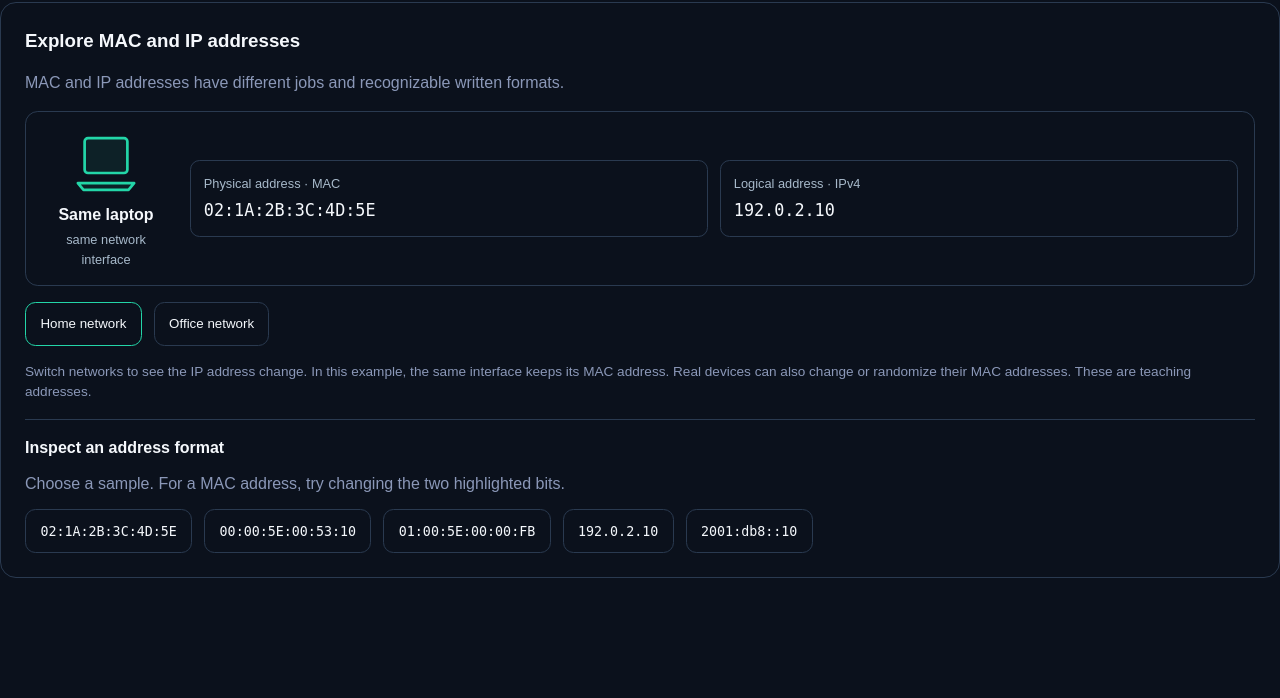
Test: AddressFormatInspector › restores each MAC sample instead of keeping edited bits from the previous sample
What coordinates should you click on to do the following:
click the button "00:00:5E:00:53:10"
I would click on:
 (288, 531)
Its box is [204,509,371,553].
(page scrolled)
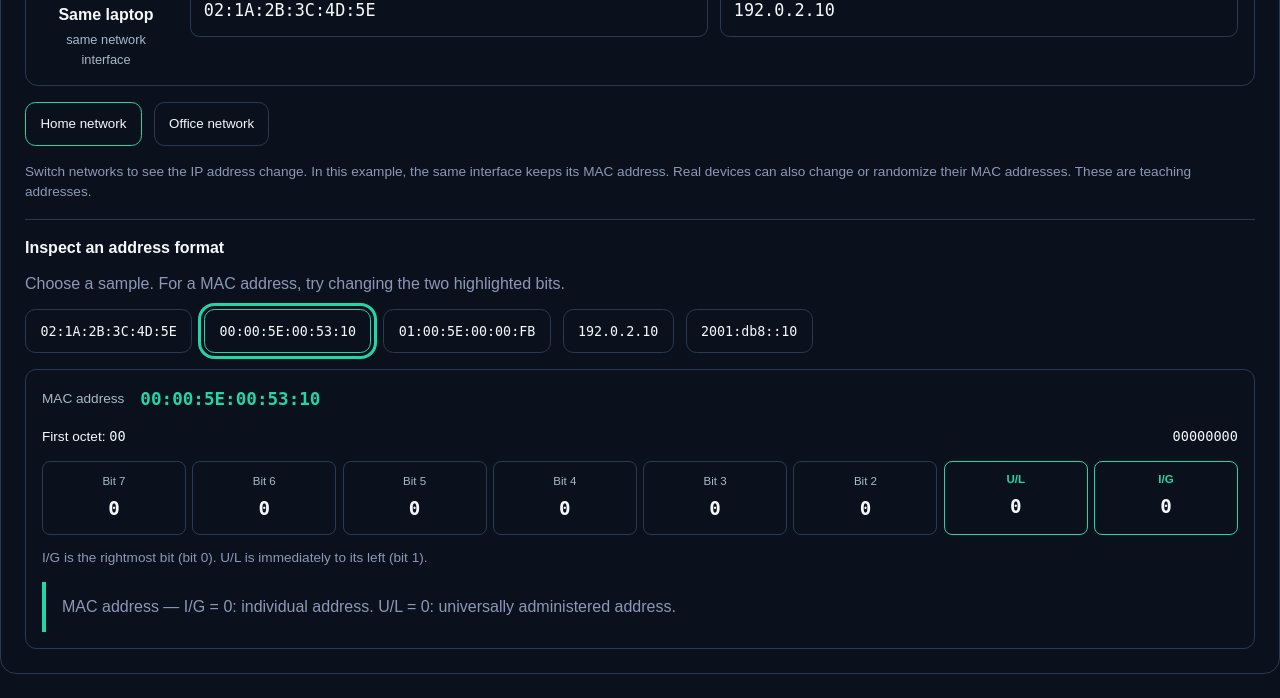
What coordinates should you click on to do the following:
click the button named "Toggle U/L bit"
I would click on:
 (1016, 498)
Its box is [944,461,1088,535].
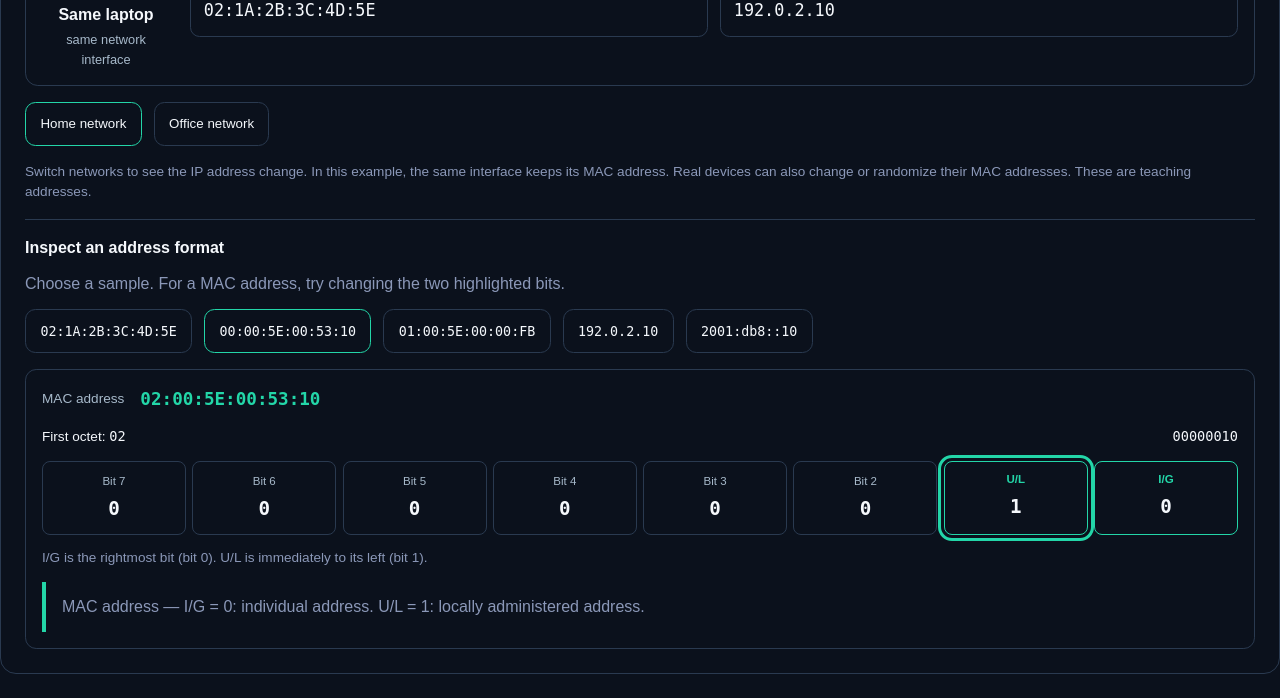
Expected: the text named "Selected address" reads "02:00:5E:00:53:10", [140,389,320,409]
What coordinates should you click on to do the following:
click the button "01:00:5E:00:00:FB"
I would click on:
 (467, 331)
Its box is [383,309,551,353].
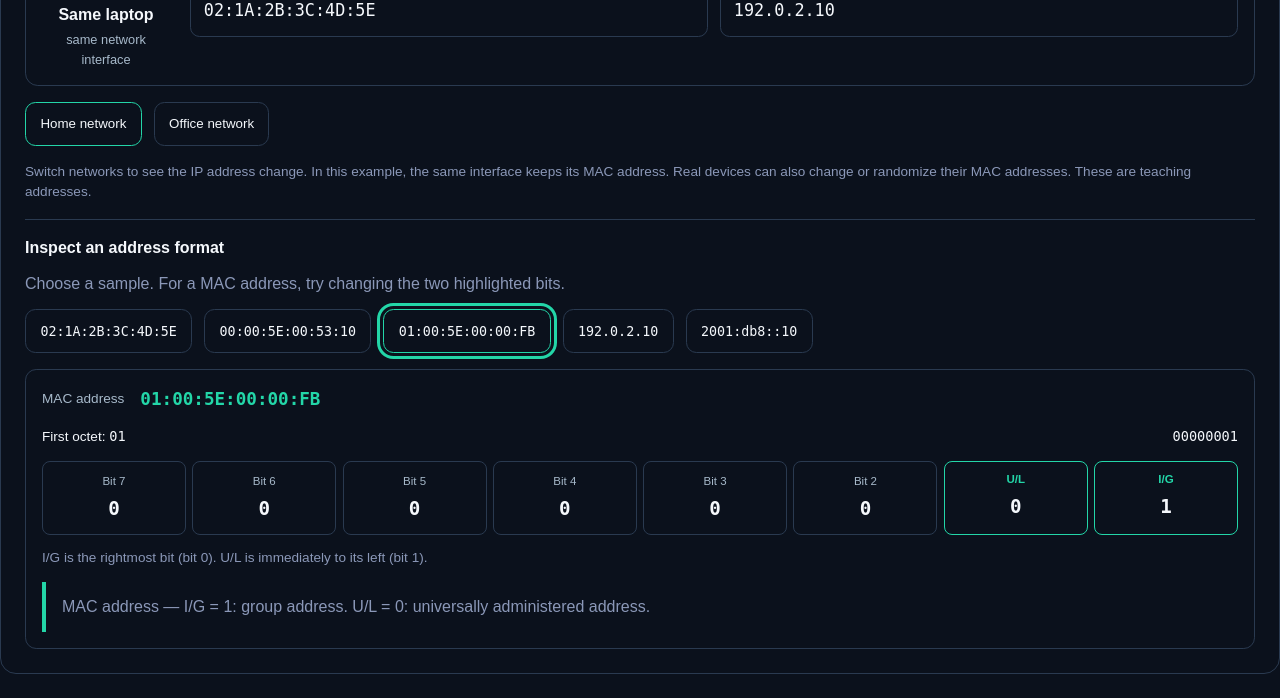
Expected: the text named "First octet in binary" reads "00000001", [1172,428,1238,444]
What coordinates should you click on to do the following:
click the button "00:00:5E:00:53:10"
I would click on:
 (288, 331)
Its box is [204,309,371,353].
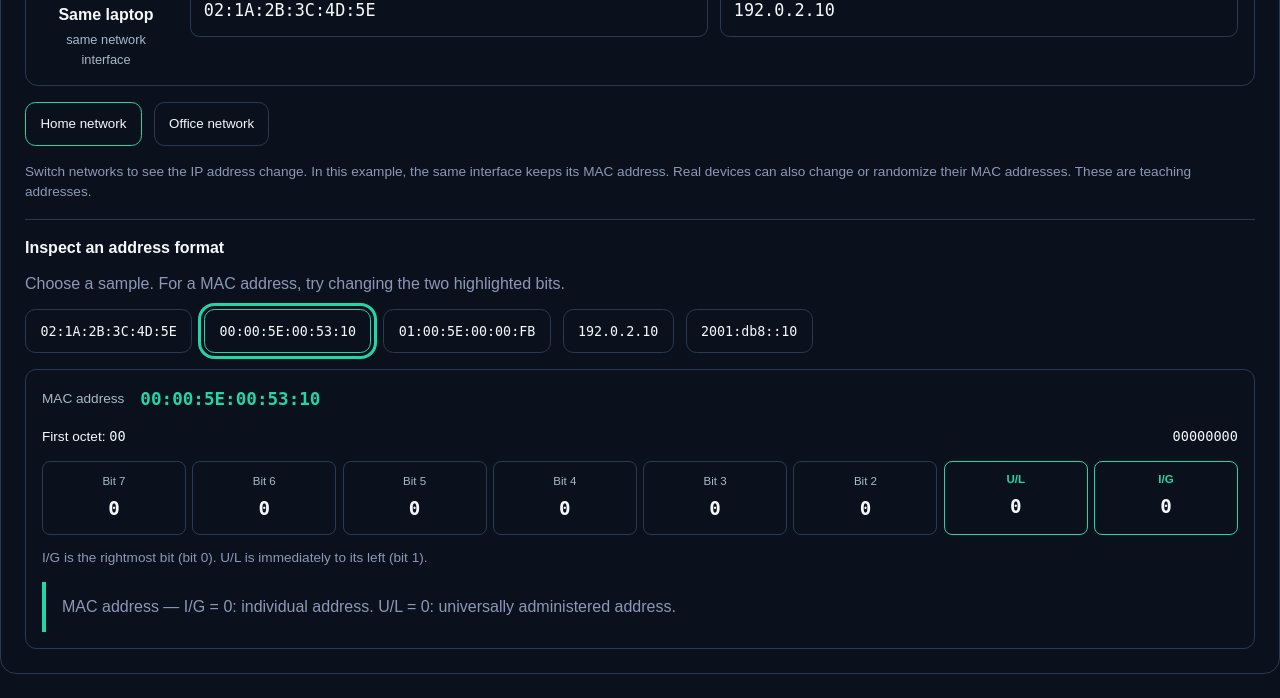
Expected: the text named "Selected address" reads "00:00:5E:00:53:10", [140,389,320,409]
